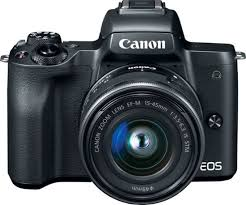camera: (5, 13, 244, 202)
flash: (101, 119, 183, 176)
